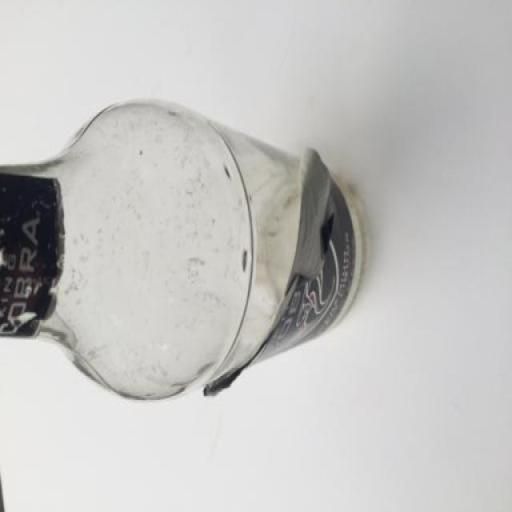glass: (0, 85, 384, 428)
